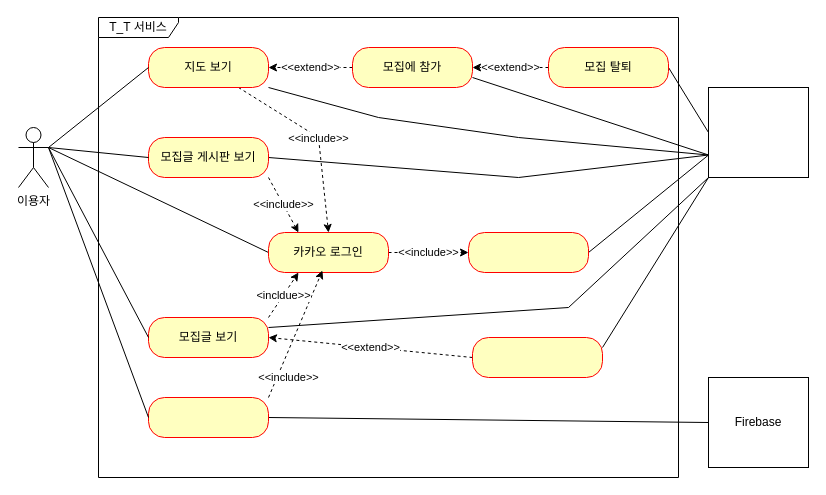
Some shapes in this 826 by 495 pixel diagram are drawn without their labels. Each missing label, with the centre of its shape:
DB: the point at 758,132
모집글 작성, 삭제, 수정: the point at 537,357
사용자 인증: the point at 528,252
채팅 하기: the point at 208,417
